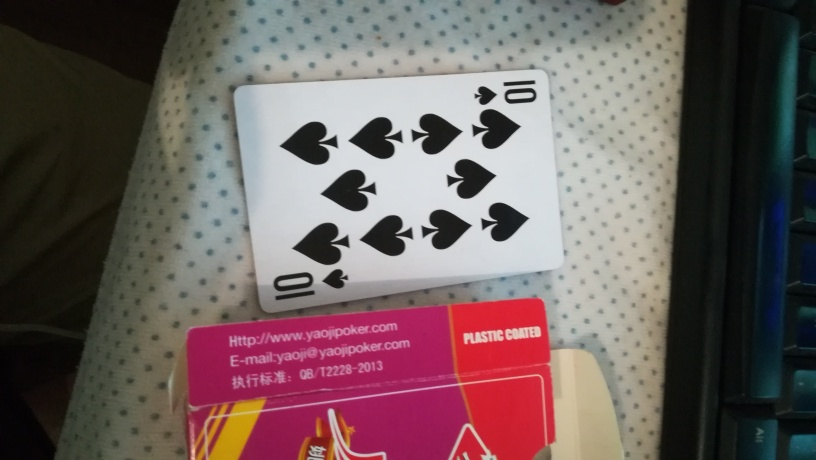ht 10: (229, 68, 567, 315)
